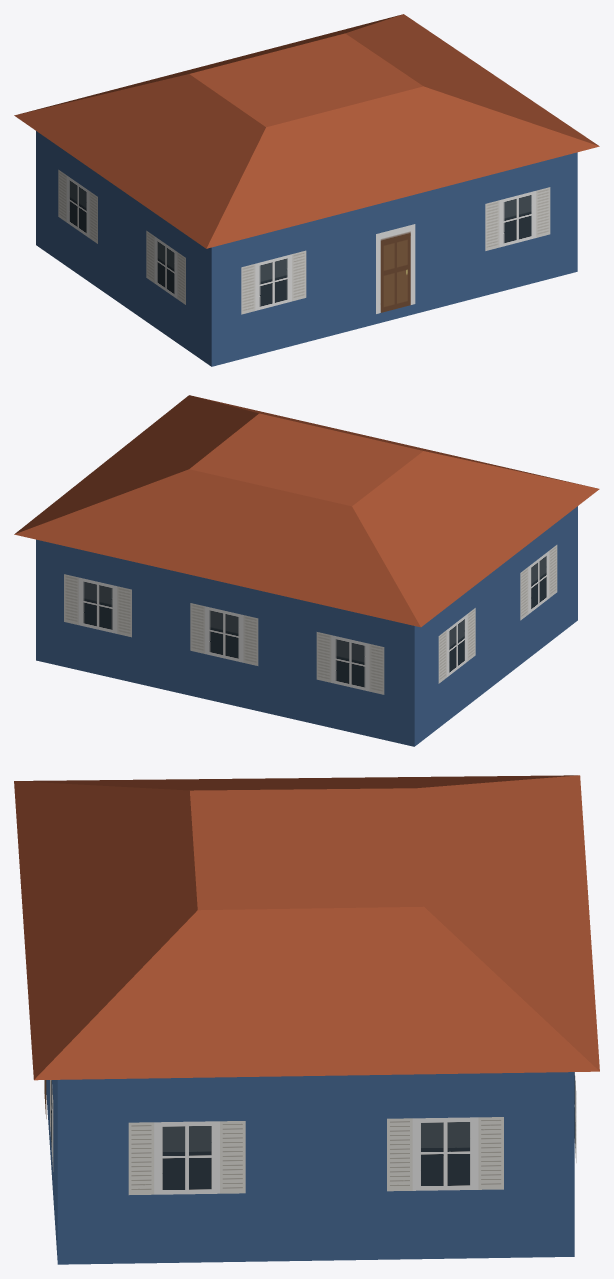
File: msb_sannicolas_20_27.glb
3 renders of one model, top to bottom at view 1: azimuth 30°, elevation 25°; view 2: azimuth 150°, elevation 25°; view 3: azimuth 270°, elevation 25°, orthographic. The views are drawn at different scales.
Parts seen in each view (by area): view 1: msb_sannicolas_20_27_lod0; view 2: msb_sannicolas_20_27_lod0; view 3: msb_sannicolas_20_27_lod0.
Part boxes in pixels (x1,y1,x2,y2): msb_sannicolas_20_27_lod0: (14,14,599,366); msb_sannicolas_20_27_lod0: (14,395,599,746); msb_sannicolas_20_27_lod0: (14,775,599,1264).
Size of what is drawn, in the model's own units: 11.72 by 4.9 by 9.52.
2 materials, 1 textured.
